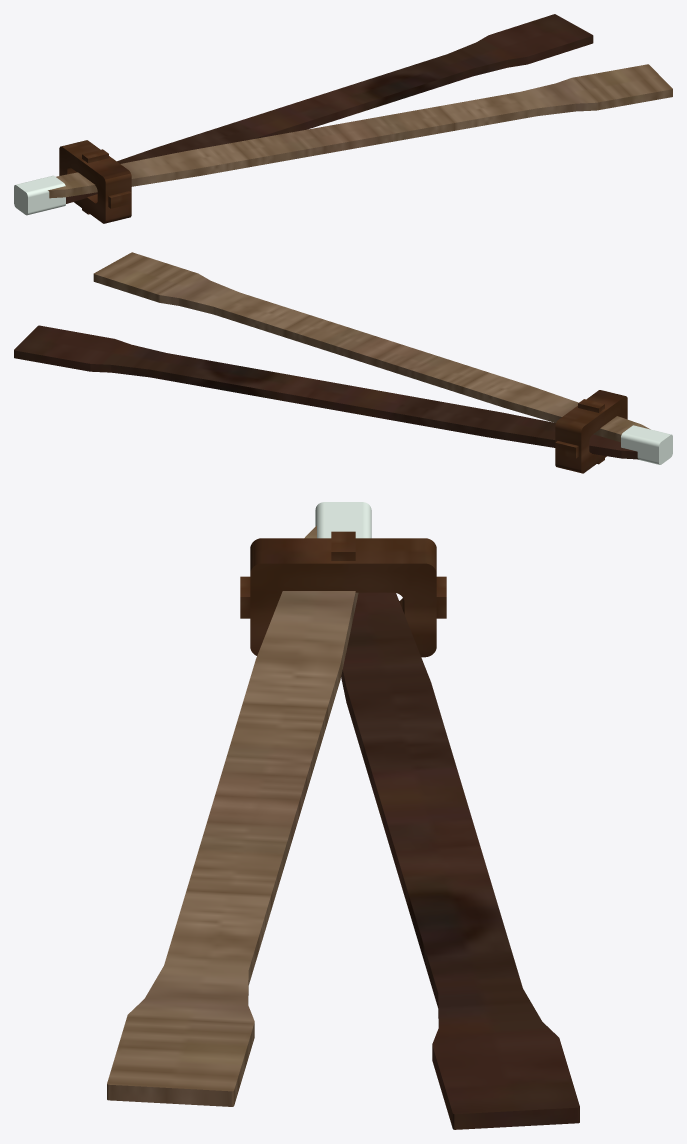
Rendered from Handtools_wooden_tongs__0069.glb.
3 renders of one model, top to bottom at view 1: azimuth 30°, elevation 25°; view 2: azimuth 150°, elevation 25°; view 3: azimuth 270°, elevation 25°, orthographic. The views are drawn at different scales.
Visible parts, largest first — view 1: moving_arm::arm_strip_1, fixed_arm::arm_strip_0, slide_ring::ring_band, fixed_arm::spring_clip; view 2: fixed_arm::arm_strip_0, moving_arm::arm_strip_1, slide_ring::ring_band, fixed_arm::spring_clip; view 3: fixed_arm::arm_strip_0, moving_arm::arm_strip_1, slide_ring::ring_band, fixed_arm::spring_clip.
Part boxes in pixels (x1,y1,x2,y2): moving_arm::arm_strip_1: [48, 64, 672, 198]; fixed_arm::arm_strip_0: [66, 14, 593, 203]; slide_ring::ring_band: [59, 140, 131, 223]; fixed_arm::spring_clip: [14, 175, 65, 215]; fixed_arm::arm_strip_0: [14, 325, 638, 459]; moving_arm::arm_strip_1: [93, 252, 650, 442]; slide_ring::ring_band: [555, 390, 627, 473]; fixed_arm::spring_clip: [621, 425, 672, 464]; fixed_arm::arm_strip_0: [341, 592, 579, 1129]; moving_arm::arm_strip_1: [107, 525, 358, 1106]; slide_ring::ring_band: [250, 538, 436, 657]; fixed_arm::spring_clip: [315, 502, 371, 538].
Size of the model in its own units: 0.3463 by 0.0308 by 0.1182.
Materials: 4 (3 with a texture image).
